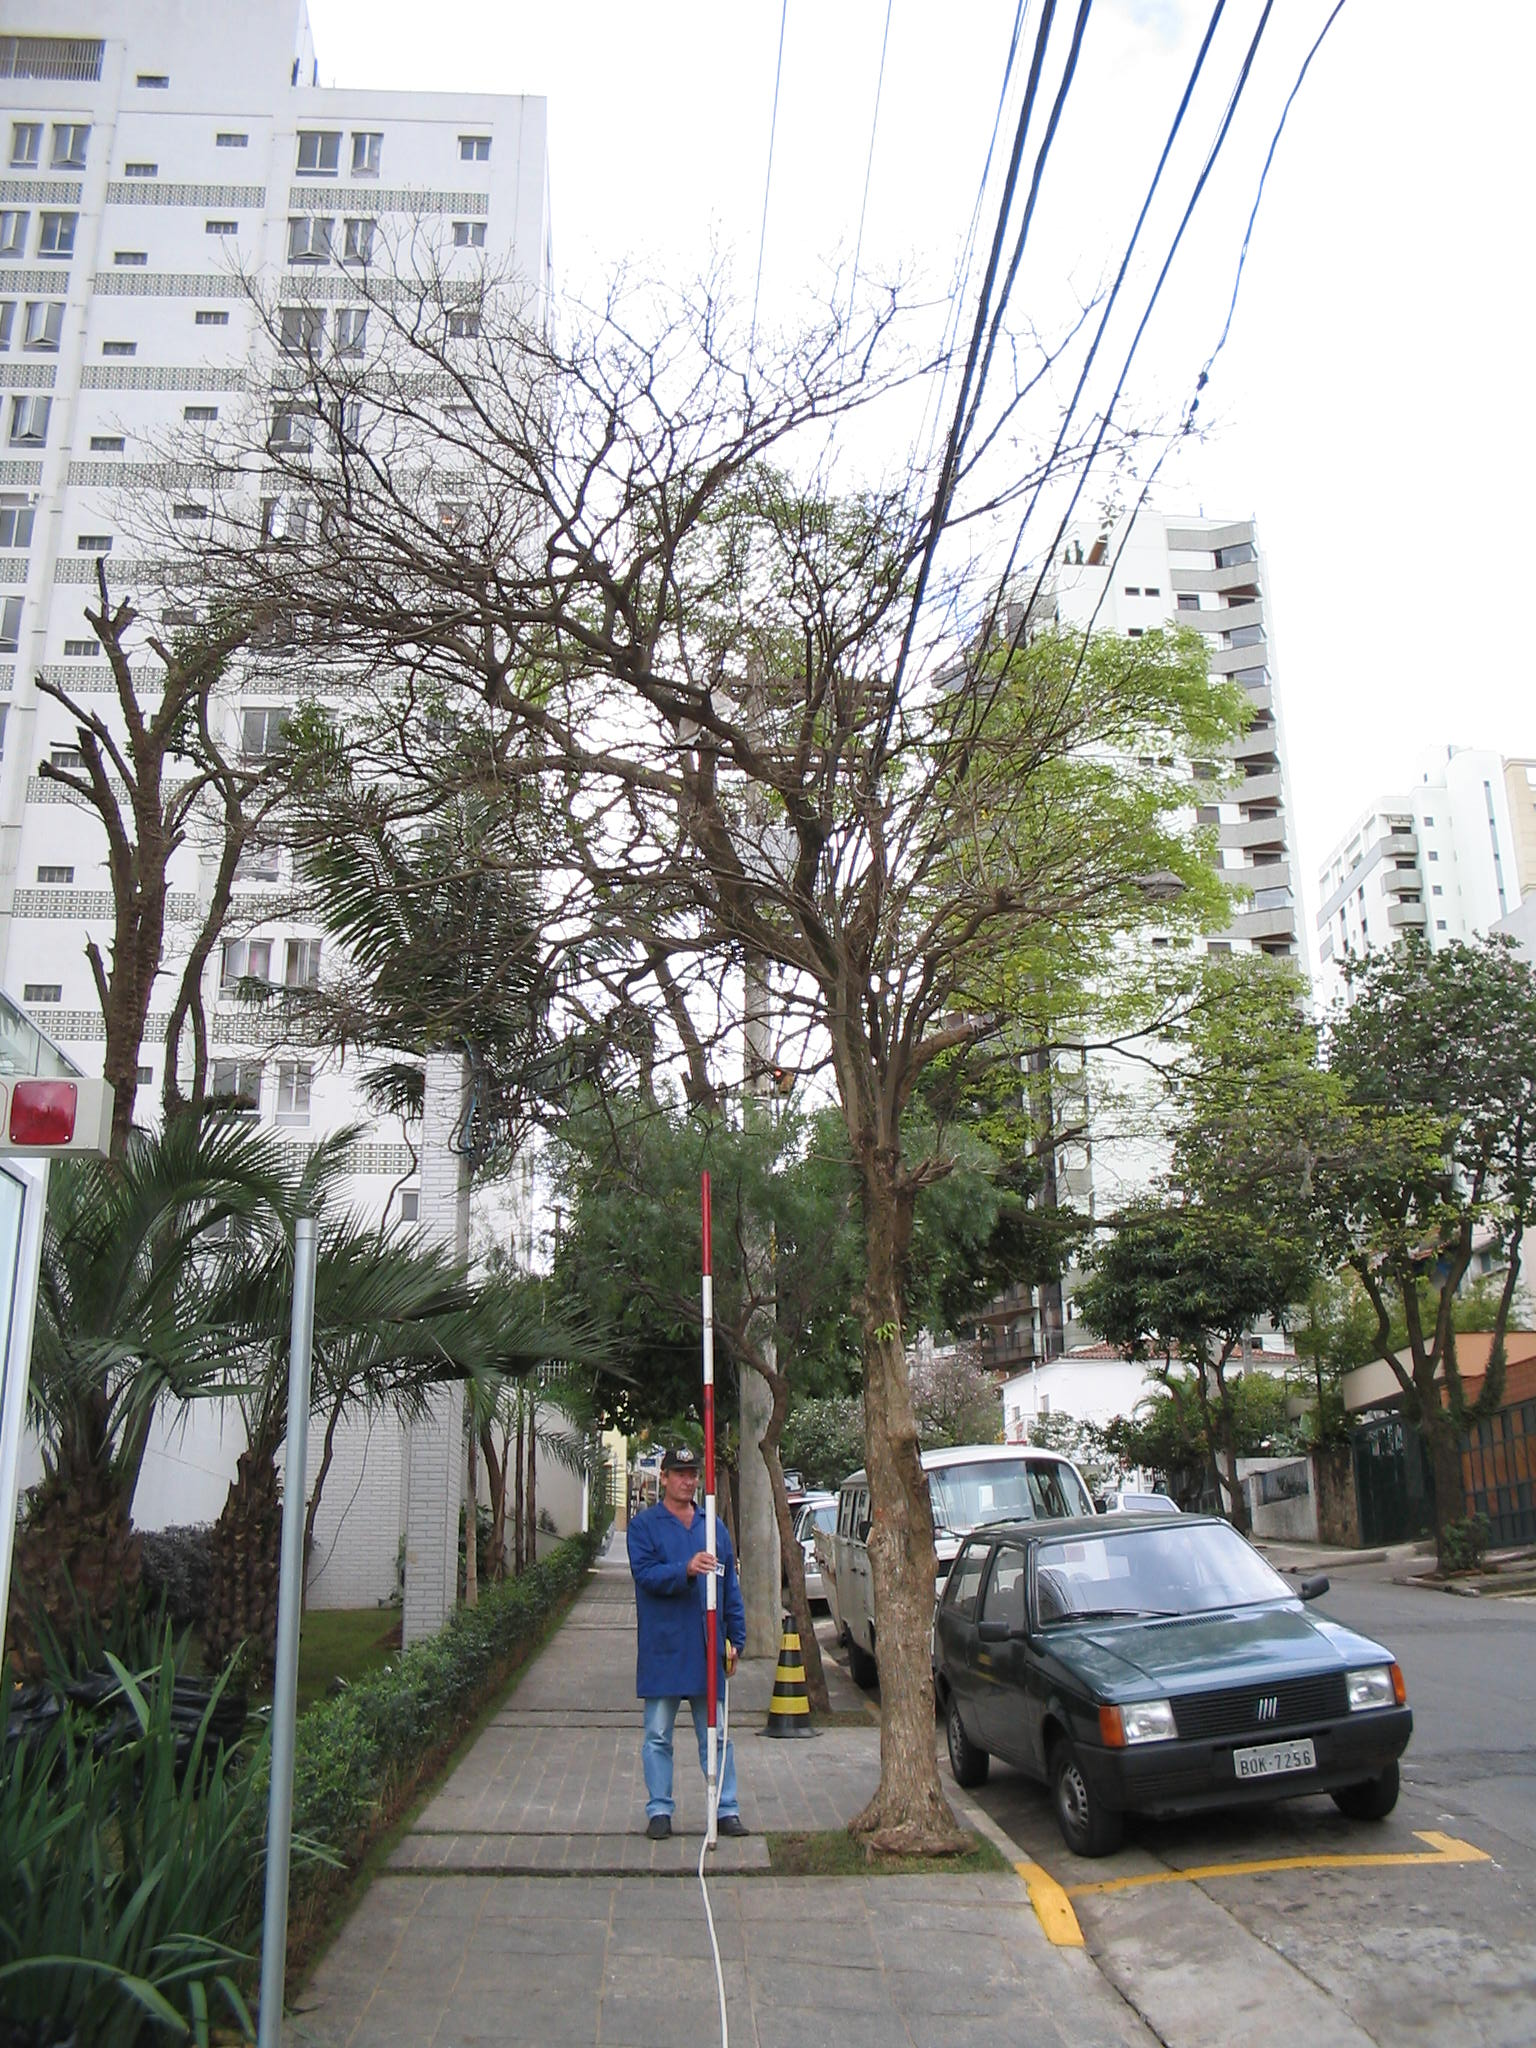crown: (1315, 942, 1533, 1292), (1089, 1221, 1296, 1379)
stem: (836, 1150, 1020, 1861), (1391, 1416, 1510, 1576)
stick: (665, 1168, 757, 1850)
tree: (106, 190, 1202, 1867), (1304, 934, 1536, 1576), (1078, 1211, 1307, 1537)
